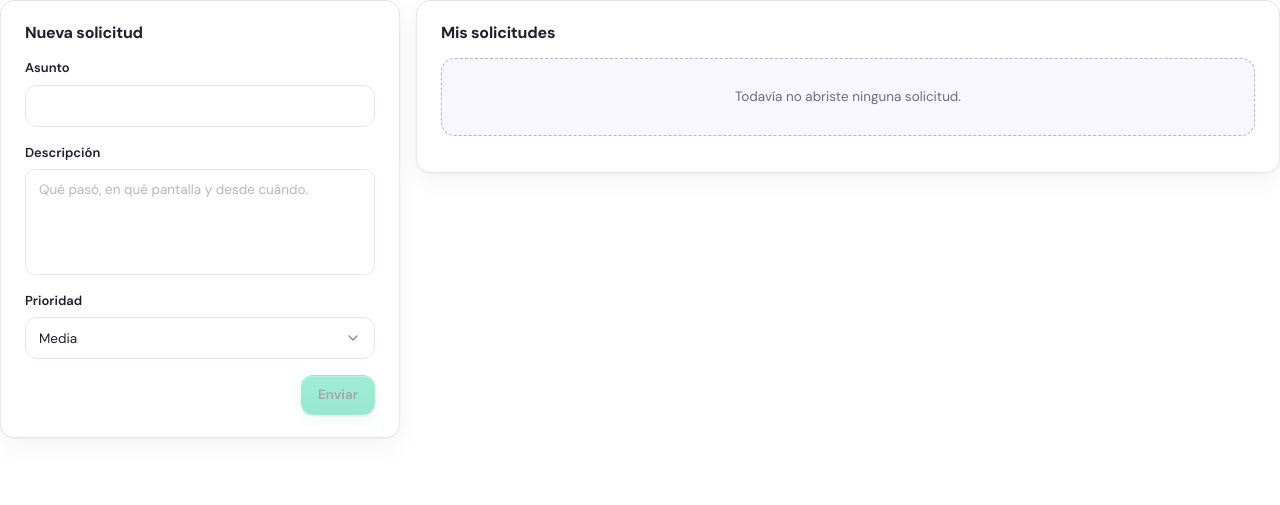
Scenario: PAN-SOP-01 · soporte › enviar refresca el listado y limpia el formulario
This screenshot has width=1280, height=505.
Type "No puedo emitir" into the field labelled "Asunto" at point(200, 106), box [25, 85, 375, 127]
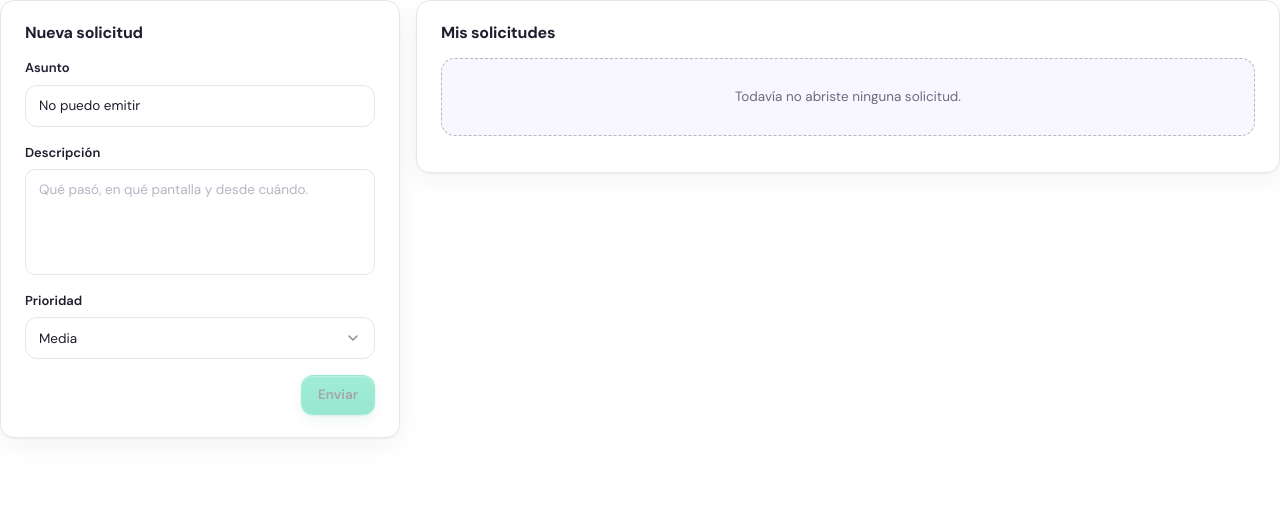
Type "ARCA falla" into the text box labelled "Descripción" at point(200, 222), box [25, 169, 375, 275]
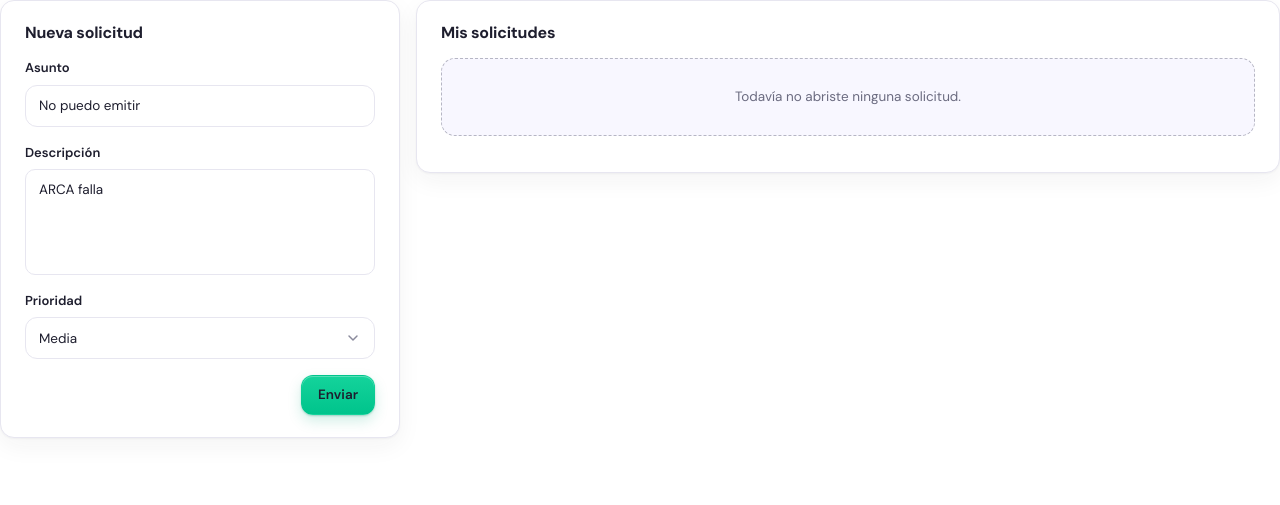
Click the button "Enviar" at point(338, 395), box [301, 375, 375, 415]
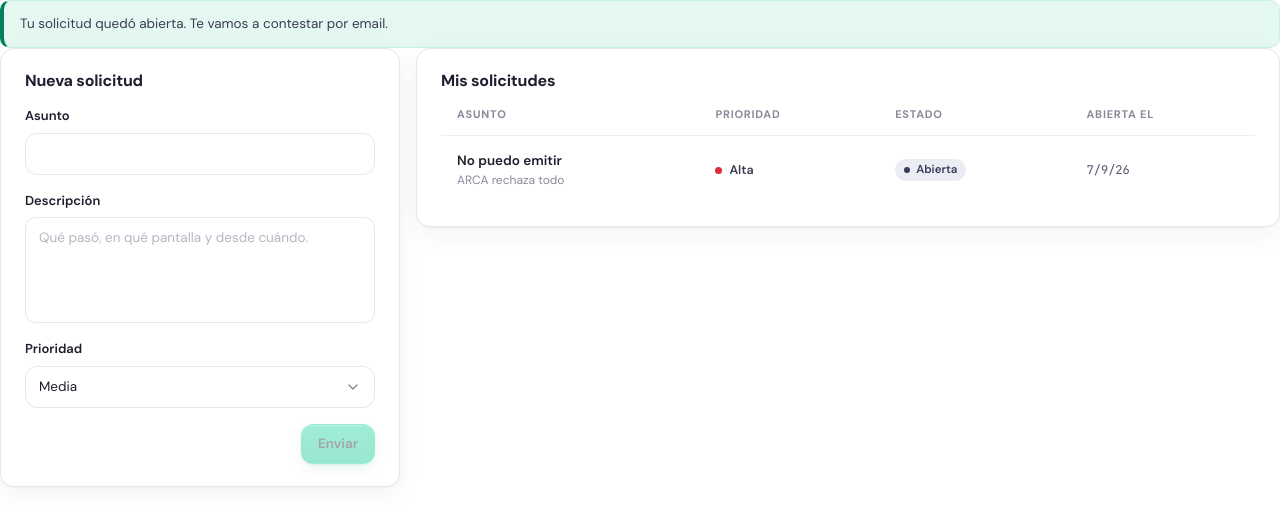
Now the text "No puedo emitir" is shown, box [457, 152, 562, 169]
Now the field labelled "Asunto" is empty, box [25, 133, 375, 175]
